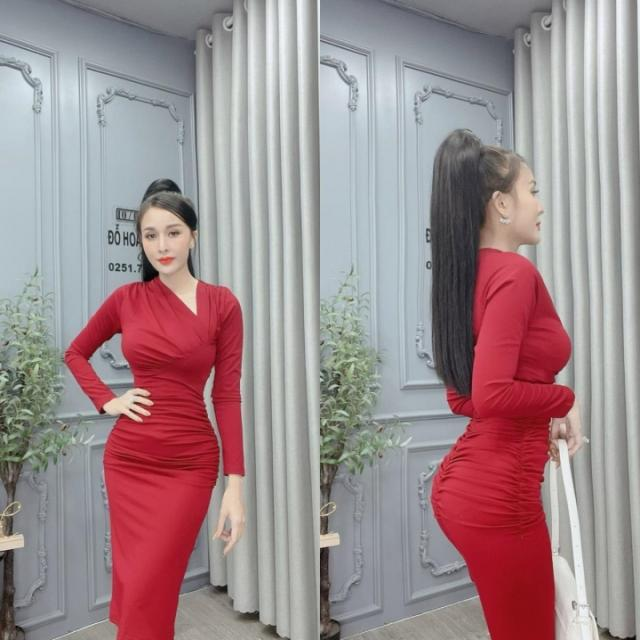clothes: (54, 275, 245, 640), (420, 241, 577, 640)
